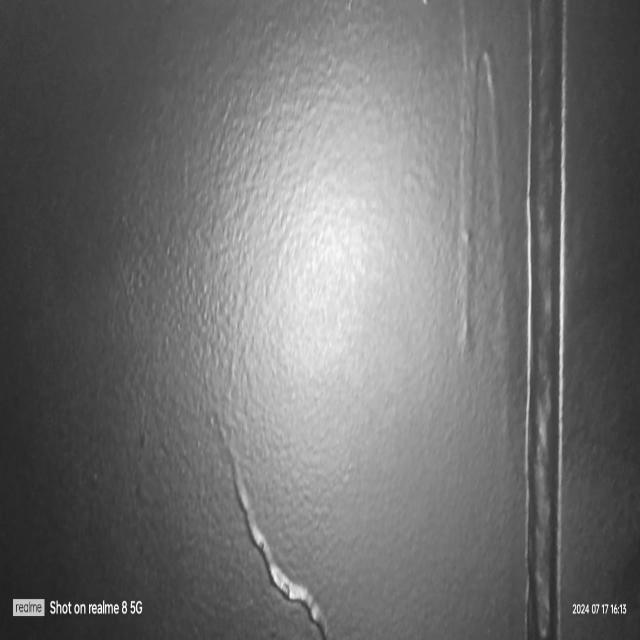paint drips: (445, 0, 522, 474), (206, 390, 349, 640)
